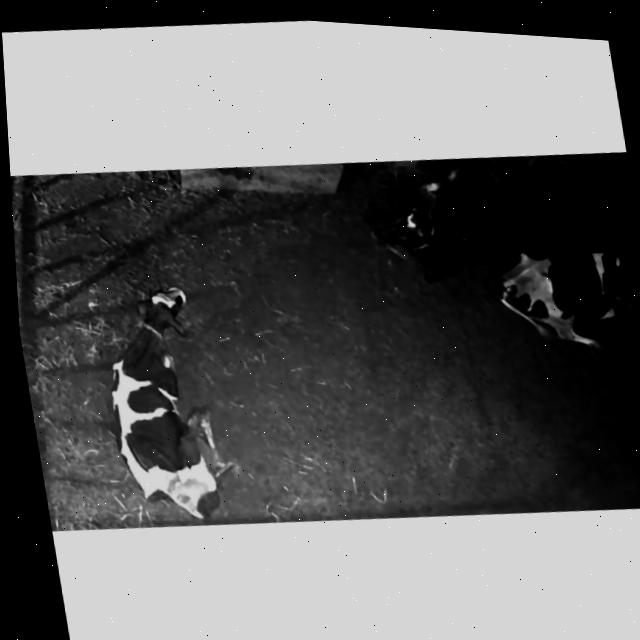lay: (63, 264, 266, 535), (485, 224, 640, 363), (356, 148, 517, 277)
